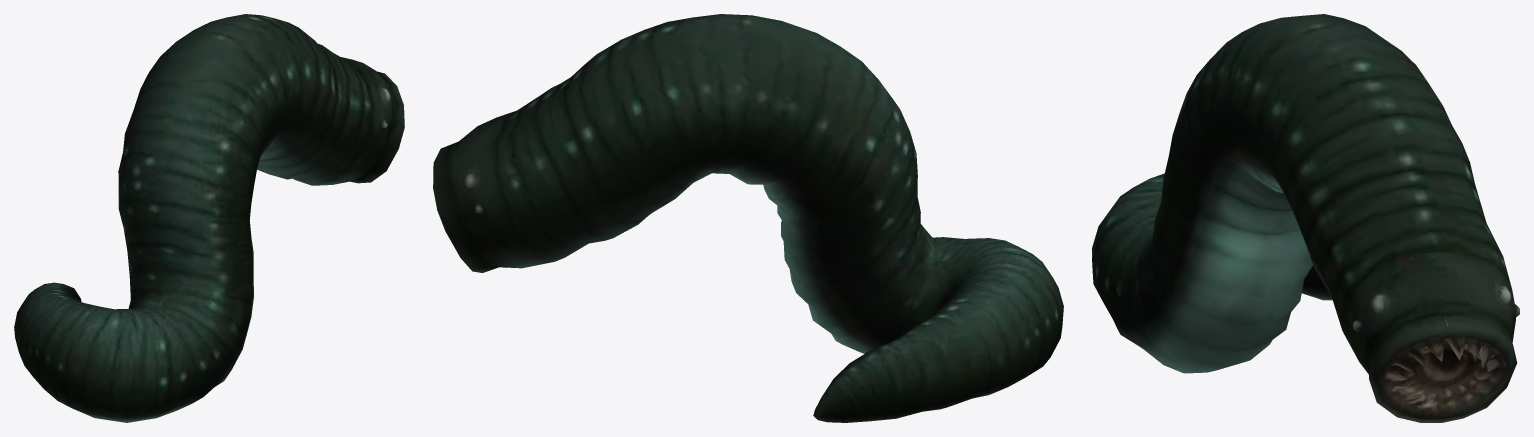
The model's file is mire_leech.glb.
The picture shows the model from 3 angles, left to right: view 1: azimuth 30°, elevation 25°; view 2: azimuth 150°, elevation 25°; view 3: azimuth 270°, elevation 25°; orthographic projection. The views are drawn at different scales.
Visible parts, largest first — view 1: tripo_node_0adcdba6-423c-4ba1-81fd-ad341b72f7ff; view 2: tripo_node_0adcdba6-423c-4ba1-81fd-ad341b72f7ff; view 3: tripo_node_0adcdba6-423c-4ba1-81fd-ad341b72f7ff.
Part boxes in pixels (x1,y1,x2,y2): tripo_node_0adcdba6-423c-4ba1-81fd-ad341b72f7ff: [14, 14, 404, 422]; tripo_node_0adcdba6-423c-4ba1-81fd-ad341b72f7ff: [433, 14, 1063, 422]; tripo_node_0adcdba6-423c-4ba1-81fd-ad341b72f7ff: [1092, 14, 1519, 422].
Size of the model in its own units: 0.998 by 0.6621 by 0.6543.
Materials: 1 (1 with a texture image).
